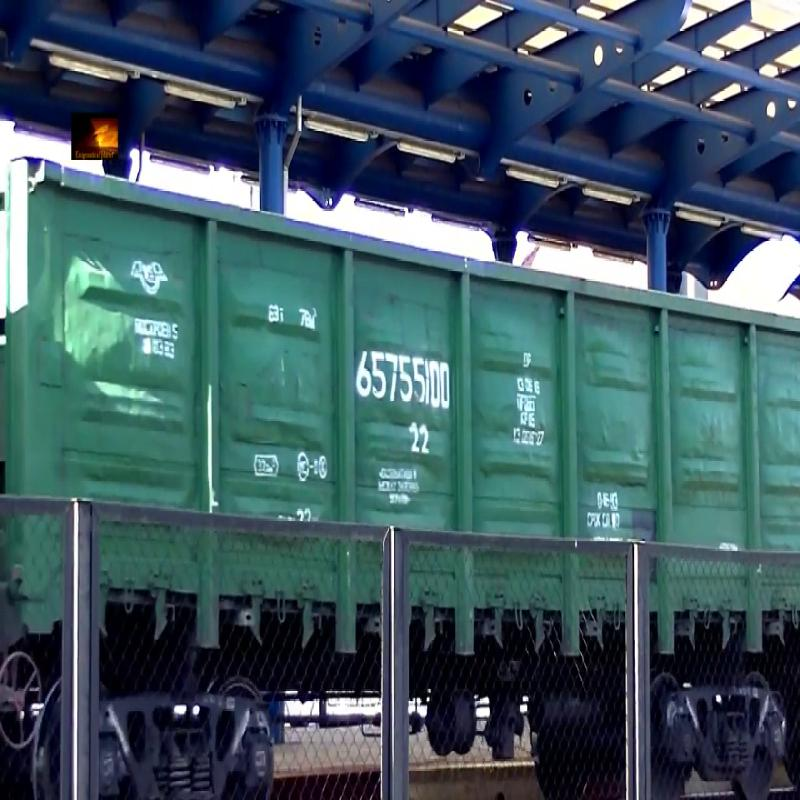train: (81, 47, 800, 771)
